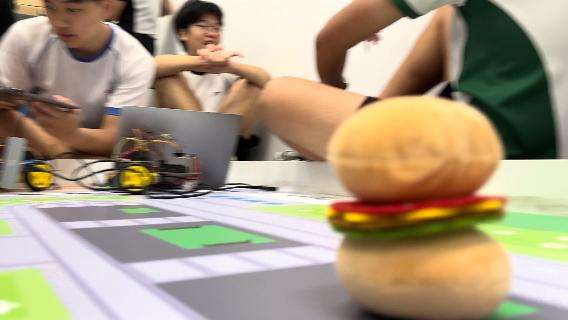burger: (324, 95, 514, 318)
